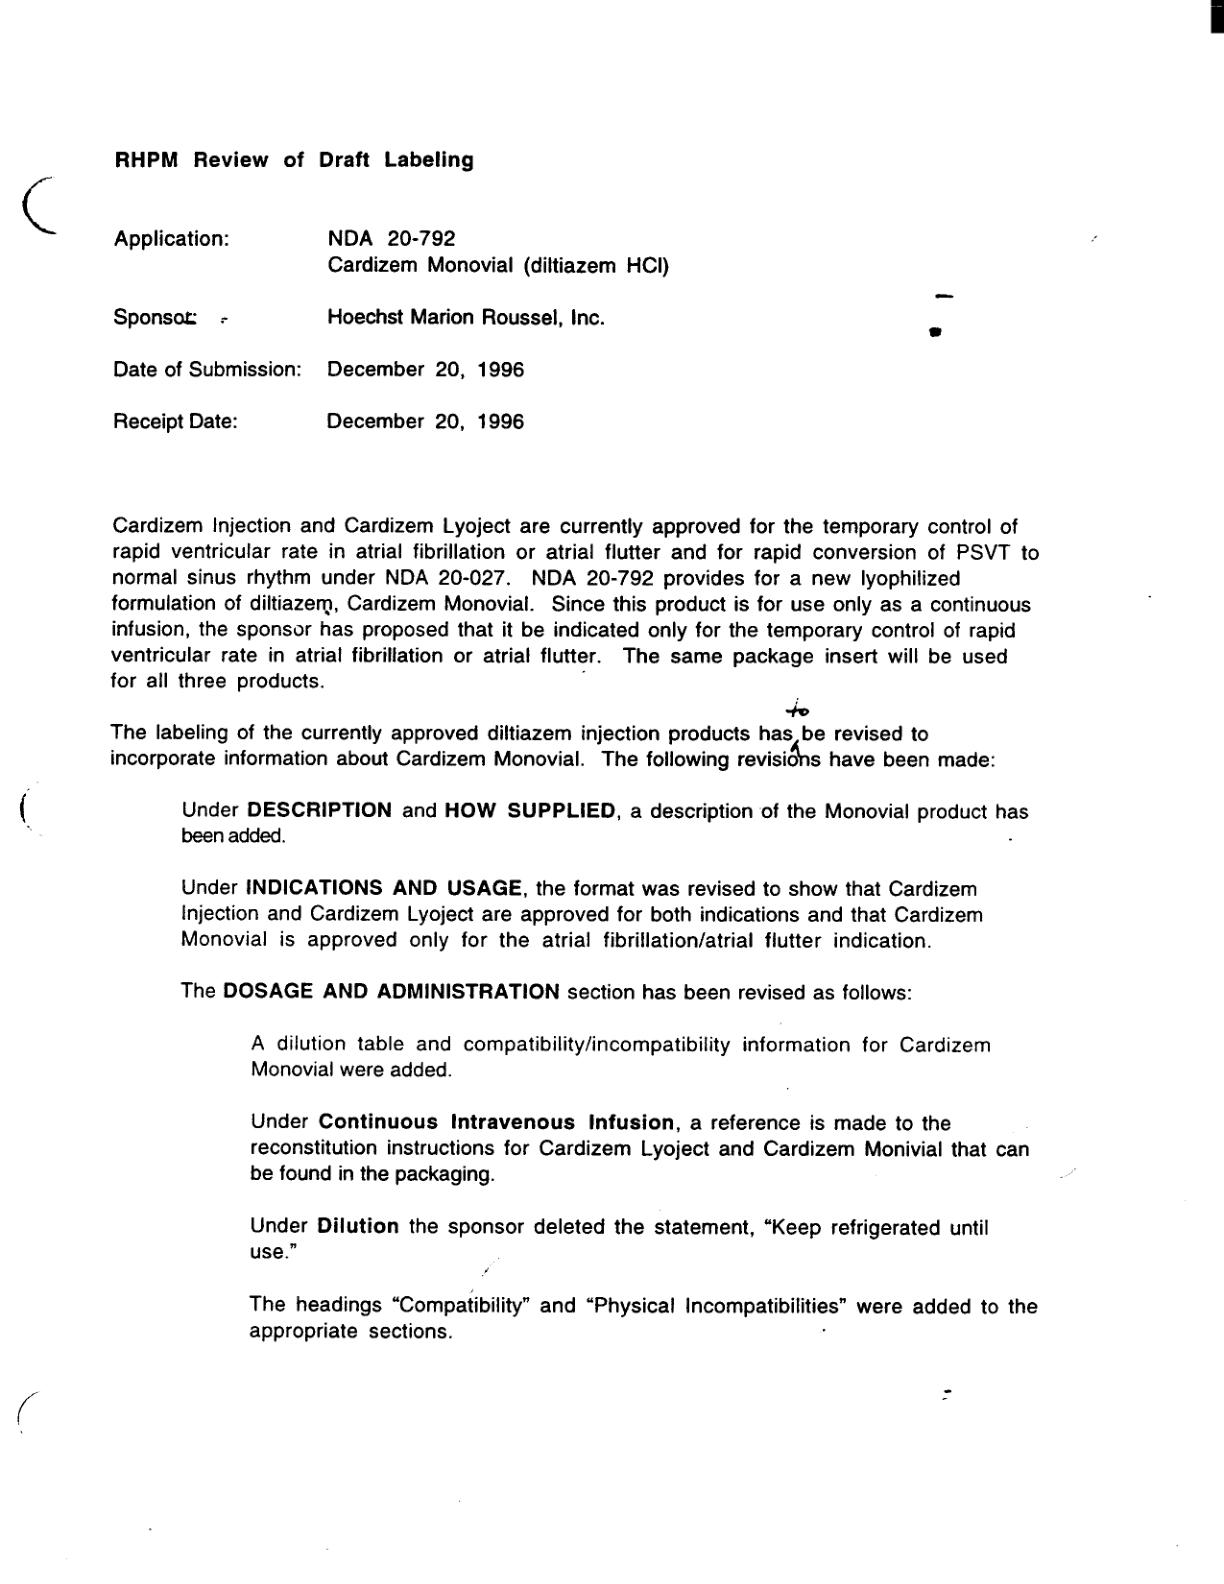nolines: (108, 228, 672, 435)
